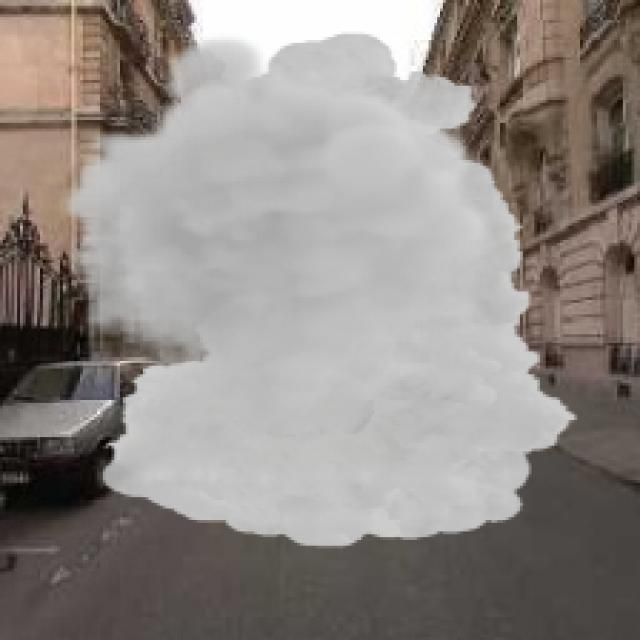Smoke: (60, 31, 580, 548)
